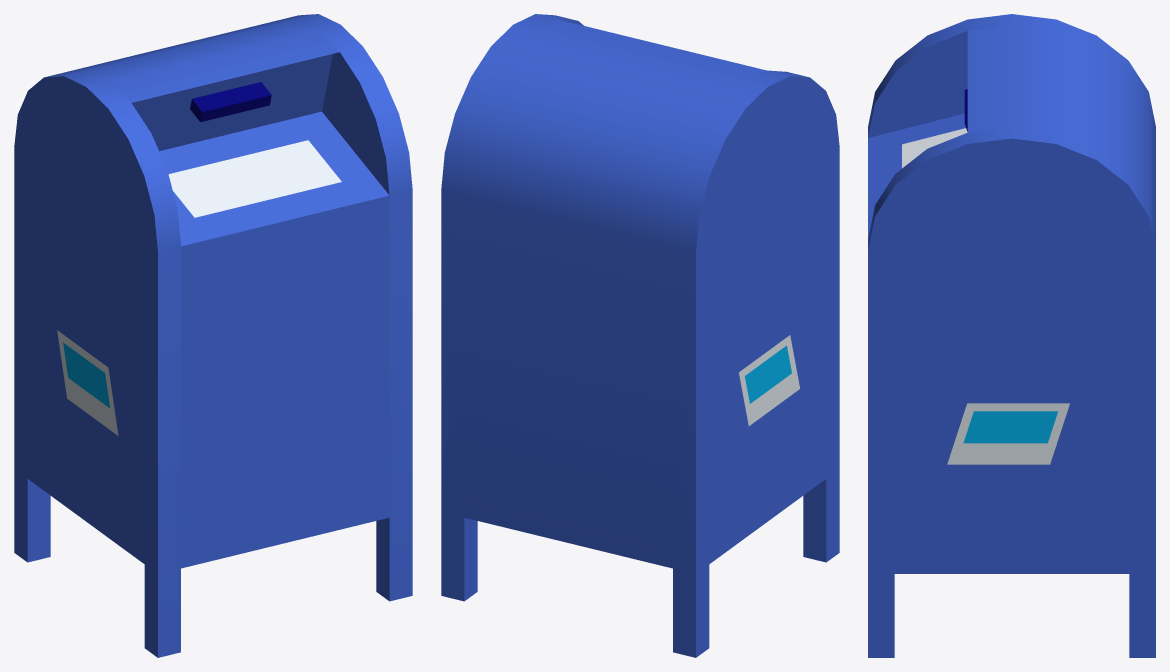
The model's file is mailbox.dae.
The picture shows the model from 3 angles, left to right: view 1: azimuth 30°, elevation 25°; view 2: azimuth 150°, elevation 25°; view 3: azimuth 270°, elevation 25°; orthographic projection.
Parts seen in each view (by area): view 1: Mailbox_Collection (×4), collection_box_side (×4); view 2: Mailbox_Collection, collection_box_side (×4); view 3: collection_box_side (×4), Mailbox_Collection (×2).
Boxes of the visible parts, x1=… form: Mailbox_Collection (×4): x1=68, y1=19, x2=389, y2=568; collection_box_side (×4): x1=14, y1=14, x2=412, y2=657; Mailbox_Collection: x1=464, y1=19, x2=766, y2=568; collection_box_side (×4): x1=441, y1=14, x2=839, y2=657; collection_box_side (×4): x1=868, y1=14, x2=1155, y2=657; Mailbox_Collection (×2): x1=868, y1=25, x2=1155, y2=238.
Bounding box in the file's own units: 22 × 21.5 × 42.79.
